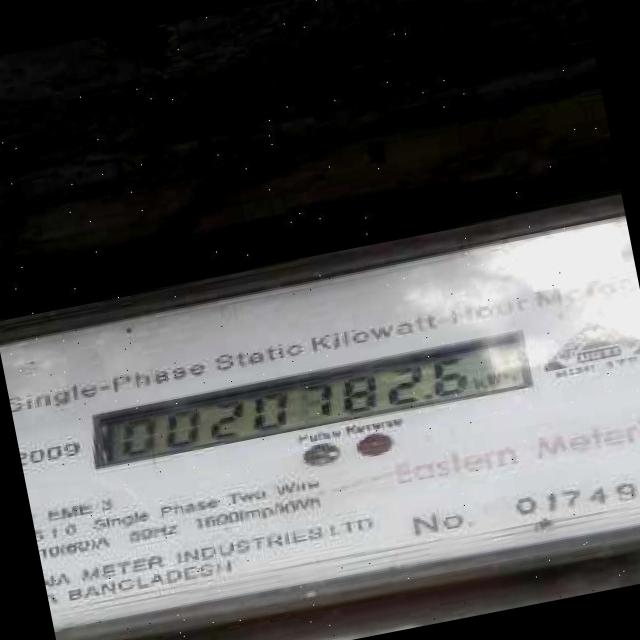LCD: (77, 318, 546, 476)
